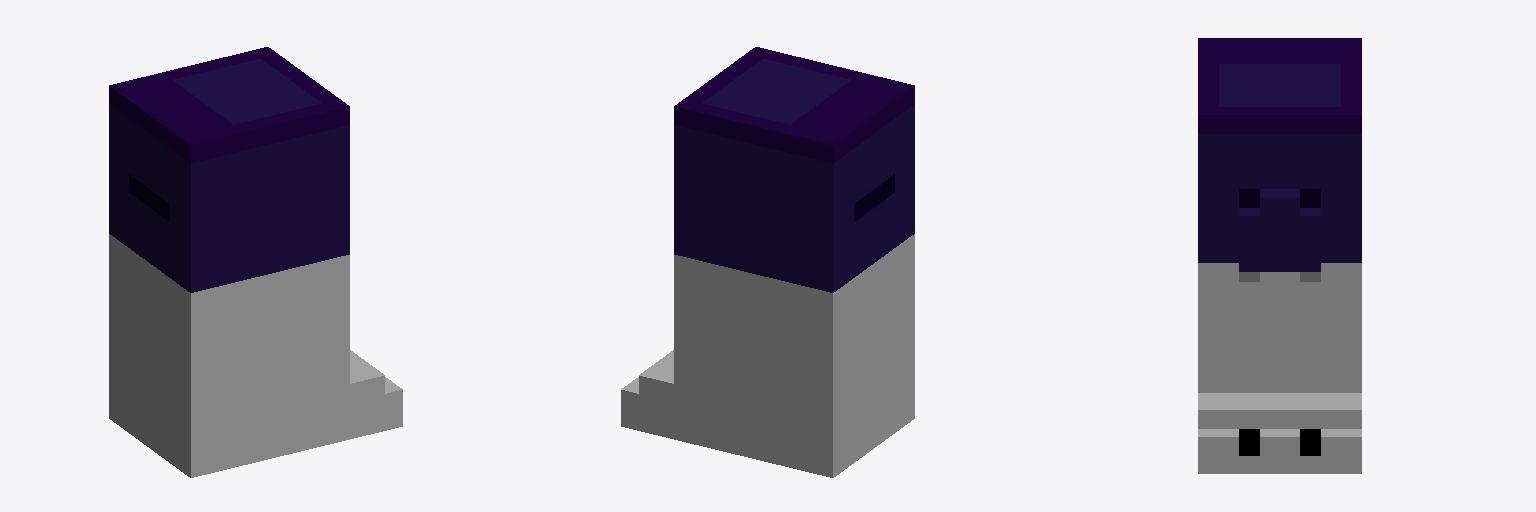
3 views of the same model, side by side, from view 1: azimuth 30°, elevation 25°; view 2: azimuth 150°, elevation 25°; view 3: azimuth 270°, elevation 25° (orthographic).
Parts seen in each view (by area): view 1: object 1; view 2: object 1; view 3: object 1.
Part boxes in pixels (left/top/right/bottom): object 1: left=109, top=47, right=402, bottom=477; object 1: left=621, top=47, right=914, bottom=477; object 1: left=1198, top=38, right=1361, bottom=473.
Size of the model in its own units: 1.2 by 1.8 by 0.8.
Materials: 1 (1 with a texture image).